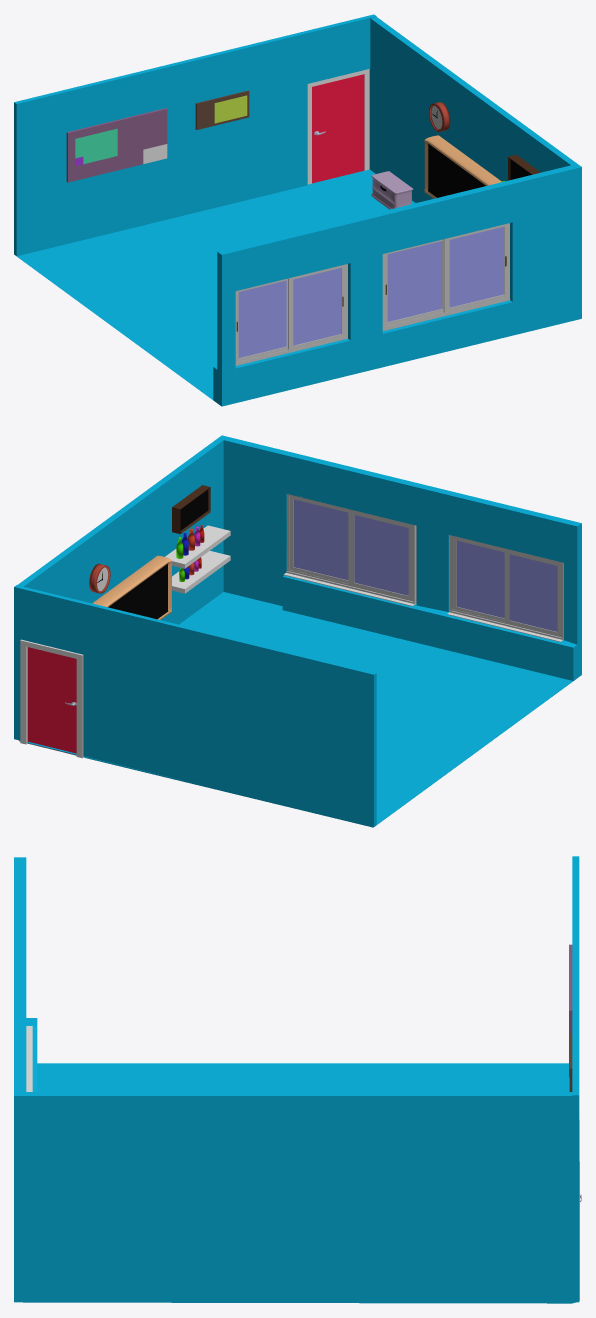
The model's file is room.glb.
The picture shows the model from 3 angles, top to bottom: view 1: azimuth 30°, elevation 25°; view 2: azimuth 150°, elevation 25°; view 3: azimuth 270°, elevation 25°; orthographic projection. The views are drawn at different scales.
Visible parts, largest first — view 1: Plane.001, Cube.006, Door, Window.R.001, Window.L.001, Window.R, Window.L, Cube, Cube.005, DoorFrame, Cube.007, WindowFrame.001 (+3 smaller); view 2: Plane.001, Window.L.001, Door, Window.R.001, Window.L, Window.R, Cube, DoorFrame, WindowFrame.001, Cube.002, WindowFrame, Cube.004 (+2 smaller); view 3: Plane.001.
Part boxes in pixels (x1,y1,x2,y2): Plane.001: [14, 14, 581, 406]; Cube.006: [66, 108, 167, 182]; Door: [312, 74, 364, 183]; Window.R.001: [443, 224, 507, 312]; Window.L.001: [385, 239, 443, 325]; Window.R: [287, 265, 344, 350]; Window.L: [236, 278, 287, 361]; Cube: [424, 135, 501, 198]; Cube.005: [195, 90, 249, 129]; DoorFrame: [307, 69, 369, 184]; Cube.007: [371, 171, 413, 209]; WindowFrame.001: [382, 223, 510, 330]; Plane.001: [14, 435, 581, 827]; Window.L.001: [348, 509, 412, 600]; Door: [27, 647, 76, 755]; Window.R.001: [289, 496, 348, 583]; Window.L: [504, 549, 561, 636]; Window.R: [452, 537, 504, 621]; Cube: [92, 555, 171, 619]; DoorFrame: [20, 639, 83, 758]; WindowFrame.001: [286, 493, 416, 603]; Cube.002: [172, 485, 210, 534]; WindowFrame: [449, 535, 563, 639]; Cube.004: [172, 551, 230, 593]; Plane.001: [14, 856, 579, 1303].
Size of the model in its own units: 40.07 by 16.55 by 40.25.
